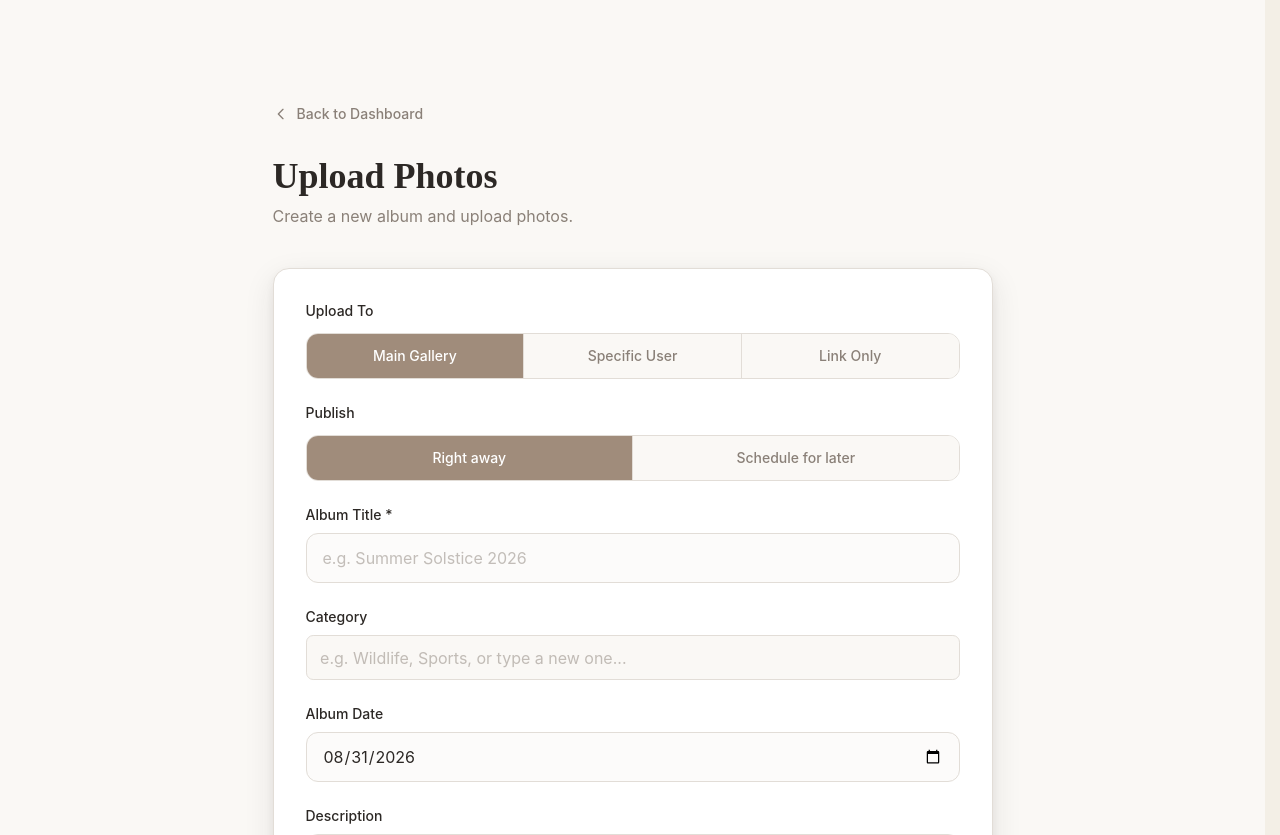
it: Admin photo upload › suggests existing photo categories as soon as the page opens
Focus the dropdown labelled "Category" at (632, 658), box [306,635,960,680]
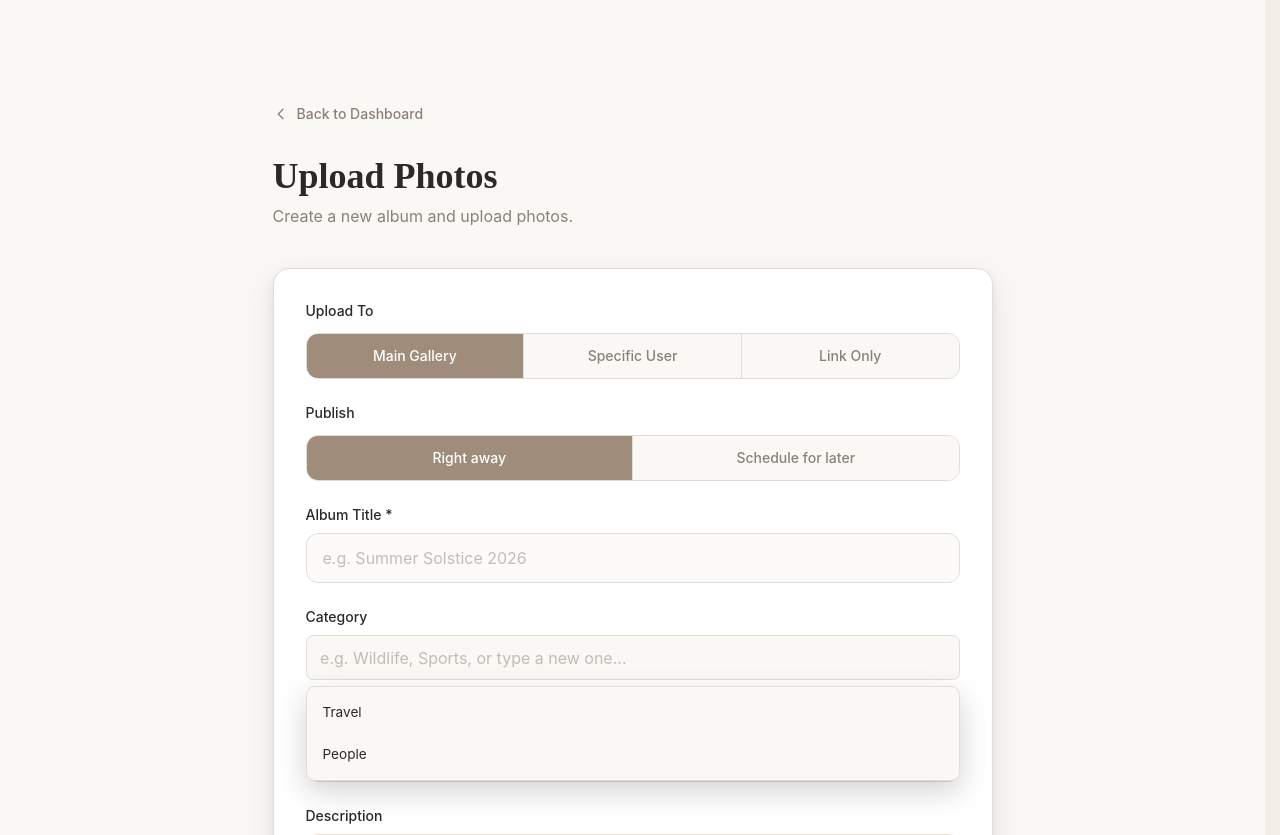
Check: the option "Travel" is shown, box [322,704,362,720]
Check: the option "People" is shown, box [322,746,367,762]
